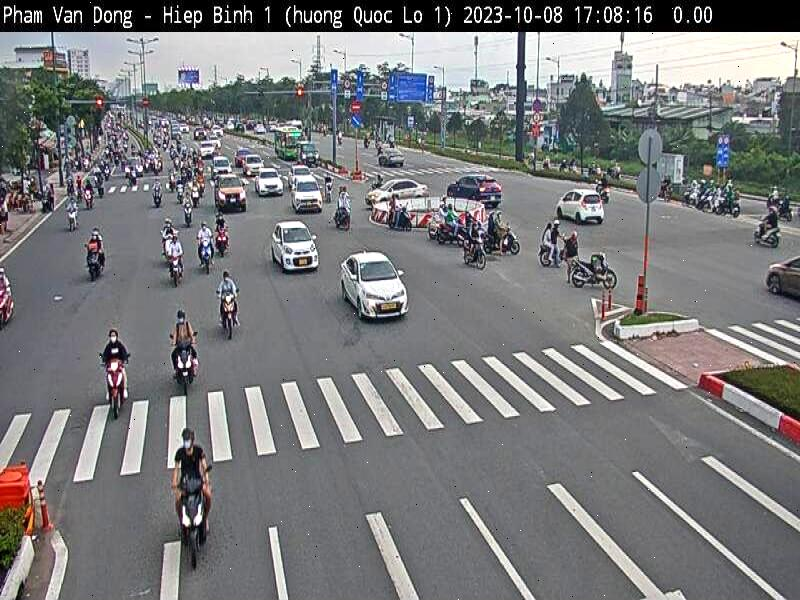car: (338, 252, 412, 326), (269, 221, 322, 275), (445, 169, 504, 212), (554, 188, 607, 230), (365, 176, 431, 207), (765, 251, 800, 301), (289, 174, 325, 212), (214, 174, 250, 212), (254, 165, 285, 197)
motorcycle: (176, 477, 214, 572), (568, 249, 620, 292), (170, 337, 202, 398), (102, 353, 131, 417), (482, 222, 524, 253), (215, 289, 240, 337), (459, 239, 487, 274), (198, 233, 218, 276), (86, 247, 106, 283), (168, 252, 185, 288), (214, 226, 231, 259)
